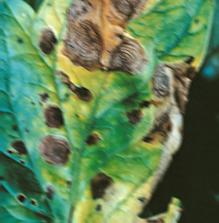Tomato Early blight leaf: (0, 0, 209, 223)
